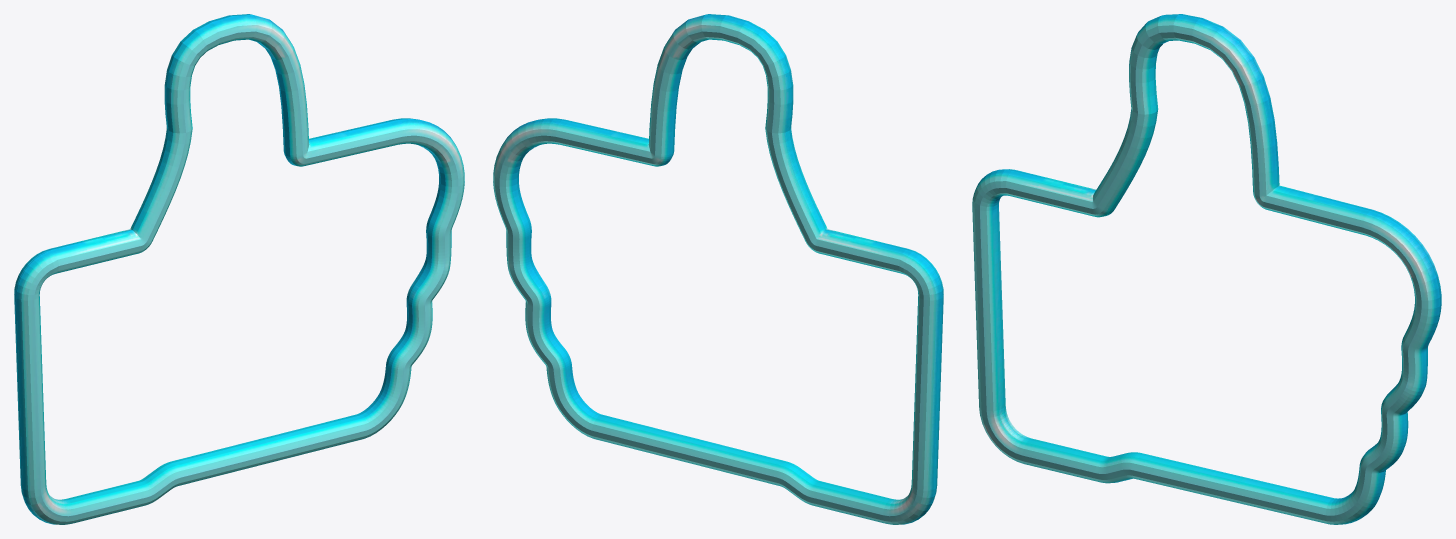
Rendered from thumb_bloom(4).FBX.
3 views of the same model, side by side, from view 1: azimuth 30°, elevation 25°; view 2: azimuth 150°, elevation 25°; view 3: azimuth 330°, elevation 25° (orthographic). The views are drawn at different scales.
Parts seen in each view (by area): view 1: Line009; view 2: Line009; view 3: Line009.
Part boxes in pixels (bbox=[...]): Line009: bbox=[14, 14, 464, 524]; Line009: bbox=[493, 14, 943, 524]; Line009: bbox=[972, 14, 1441, 524].
Size of the model in its own units: 31.18 by 31.11 by 1.67.
Materials: 1 (1 with a texture image).
